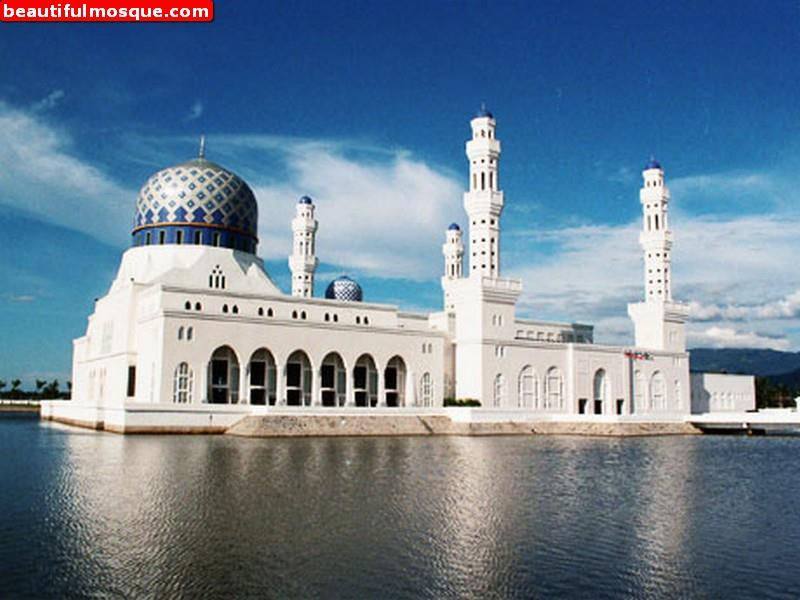Mosque: (71, 91, 679, 440)
